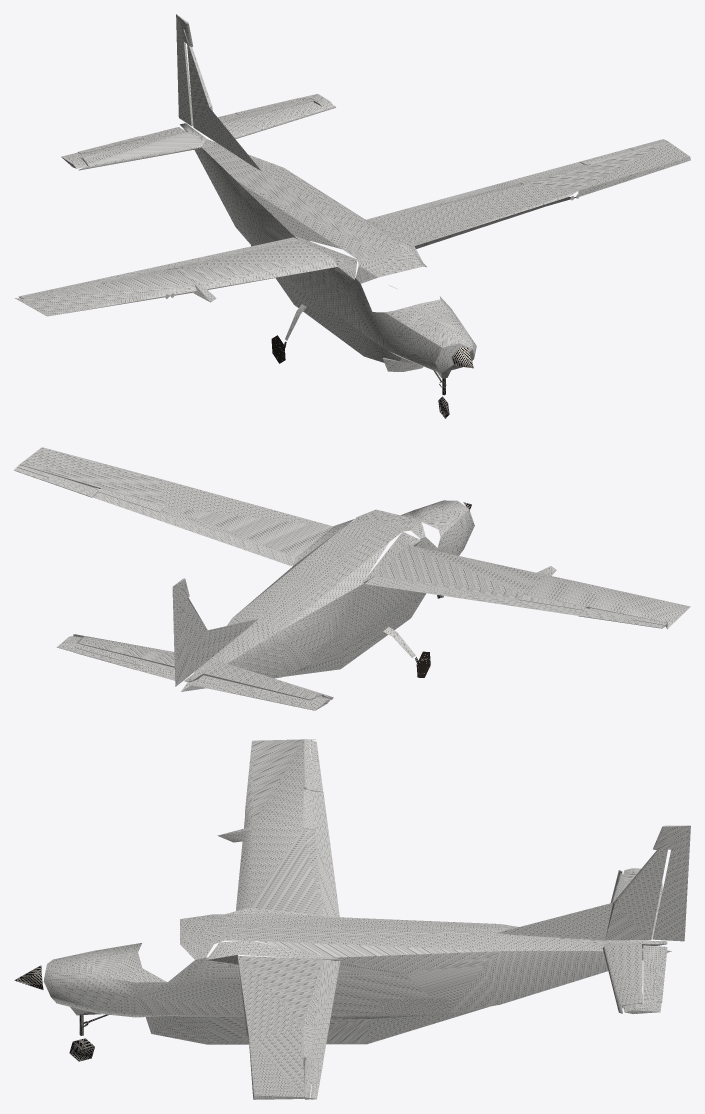
Rendered from 208B_GRAND_CARAVAN_EX_LOD06.gltf.
The picture shows the model from 3 angles, top to bottom: view 1: azimuth 30°, elevation 25°; view 2: azimuth 150°, elevation 25°; view 3: azimuth 270°, elevation 25°; orthographic projection. The views are drawn at different scales.
Visible parts, largest first — view 1: FUSELAGE, RUDDER_1, WING_LEFT_FLAP, WING_RIGHT_FLAP, ELEVATOR_RIGHT, ELEVATOR_LEFT; view 2: FUSELAGE, WING_LEFT_FLAP, WING_RIGHT_FLAP, RUDDER_1, ELEVATOR_RIGHT, ELEVATOR_LEFT, WING_LEFT_AILERON, WING_RIGHT_AILERON, WING_LEFT_SPOILER; view 3: FUSELAGE, RUDDER_1, WING_RIGHT_FLAP, WING_LEFT_FLAP, ELEVATOR_LEFT, WING_RIGHT_AILERON, WING_LEFT_AILERON.
Part boxes in pixels (x1,y1,x2,y2): FUSELAGE: (15, 29, 690, 378); RUDDER_1: (176, 14, 193, 126); WING_LEFT_FLAP: (367, 162, 583, 225); WING_RIGHT_FLAP: (97, 237, 298, 281); ELEVATOR_RIGHT: (61, 127, 186, 168); ELEVATOR_LEFT: (218, 94, 333, 123); FUSELAGE: (14, 447, 690, 700); WING_LEFT_FLAP: (93, 492, 300, 565); WING_RIGHT_FLAP: (365, 576, 583, 615); RUDDER_1: (172, 578, 190, 686); ELEVATOR_RIGHT: (191, 675, 330, 710); ELEVATOR_LEFT: (57, 636, 174, 680); WING_LEFT_AILERON: (17, 465, 99, 497); WING_RIGHT_AILERON: (578, 608, 667, 626); WING_LEFT_SPOILER: (98, 487, 164, 512); FUSELAGE: (43, 739, 671, 1099); RUDDER_1: (653, 825, 690, 941); WING_RIGHT_FLAP: (309, 791, 339, 917); WING_LEFT_FLAP: (303, 960, 340, 1059); ELEVATOR_LEFT: (623, 945, 667, 1014); WING_RIGHT_AILERON: (303, 740, 323, 792); WING_LEFT_AILERON: (303, 1057, 323, 1099).
Size of what is drawn, in the model's own units: 15.93 by 4.87 by 12.66.
